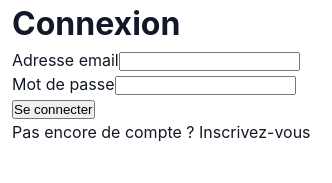
Scenario: LoginPage › should display error message on failed login
Type "test@example.com" into the field labelled "Adresse email" at (209, 62), box [119, 52, 300, 71]
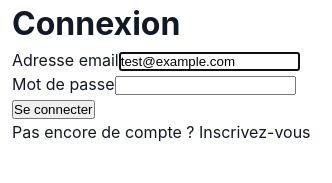
Type "wrongpassword" into the password field labelled "Mot de passe" at (205, 86), box [115, 76, 296, 95]
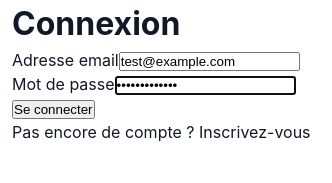
Click the button "Se connecter" at (53, 110), box [12, 100, 94, 119]
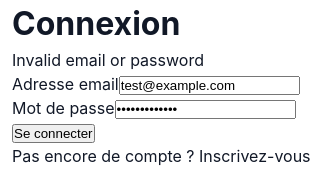
Expected: the message "Invalid email or password" is shown, [12, 50, 204, 70]
